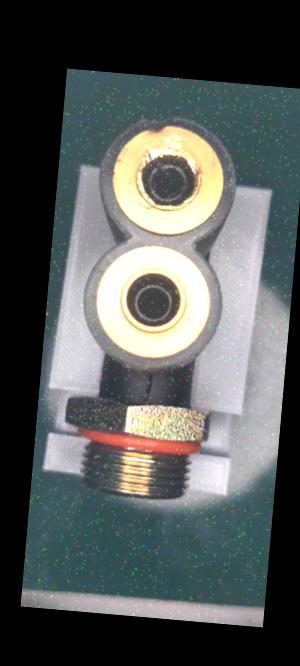bump: (136, 107, 178, 134)
craze: (135, 370, 157, 409)
